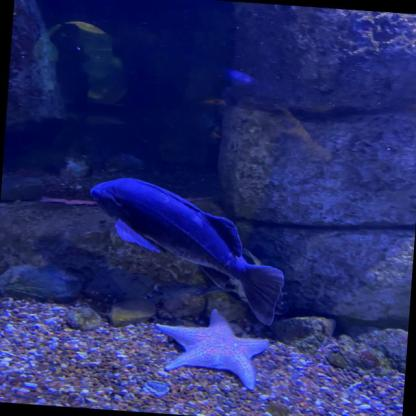fish: (82, 175, 290, 327)
starfish: (152, 305, 272, 392)
